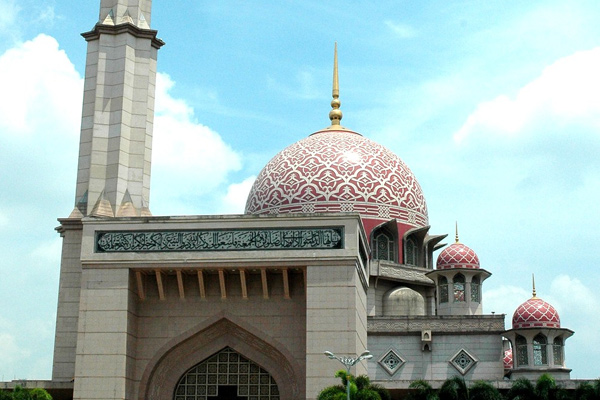Mosque: (76, 9, 558, 377)
